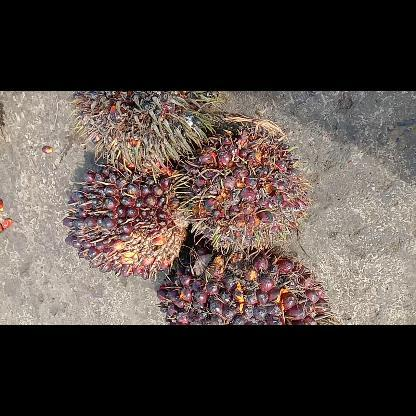Kurang masak: (183, 119, 307, 253), (64, 156, 186, 278)
TBS abnormal: (76, 90, 212, 162)
TBS masak: (158, 249, 330, 324)
